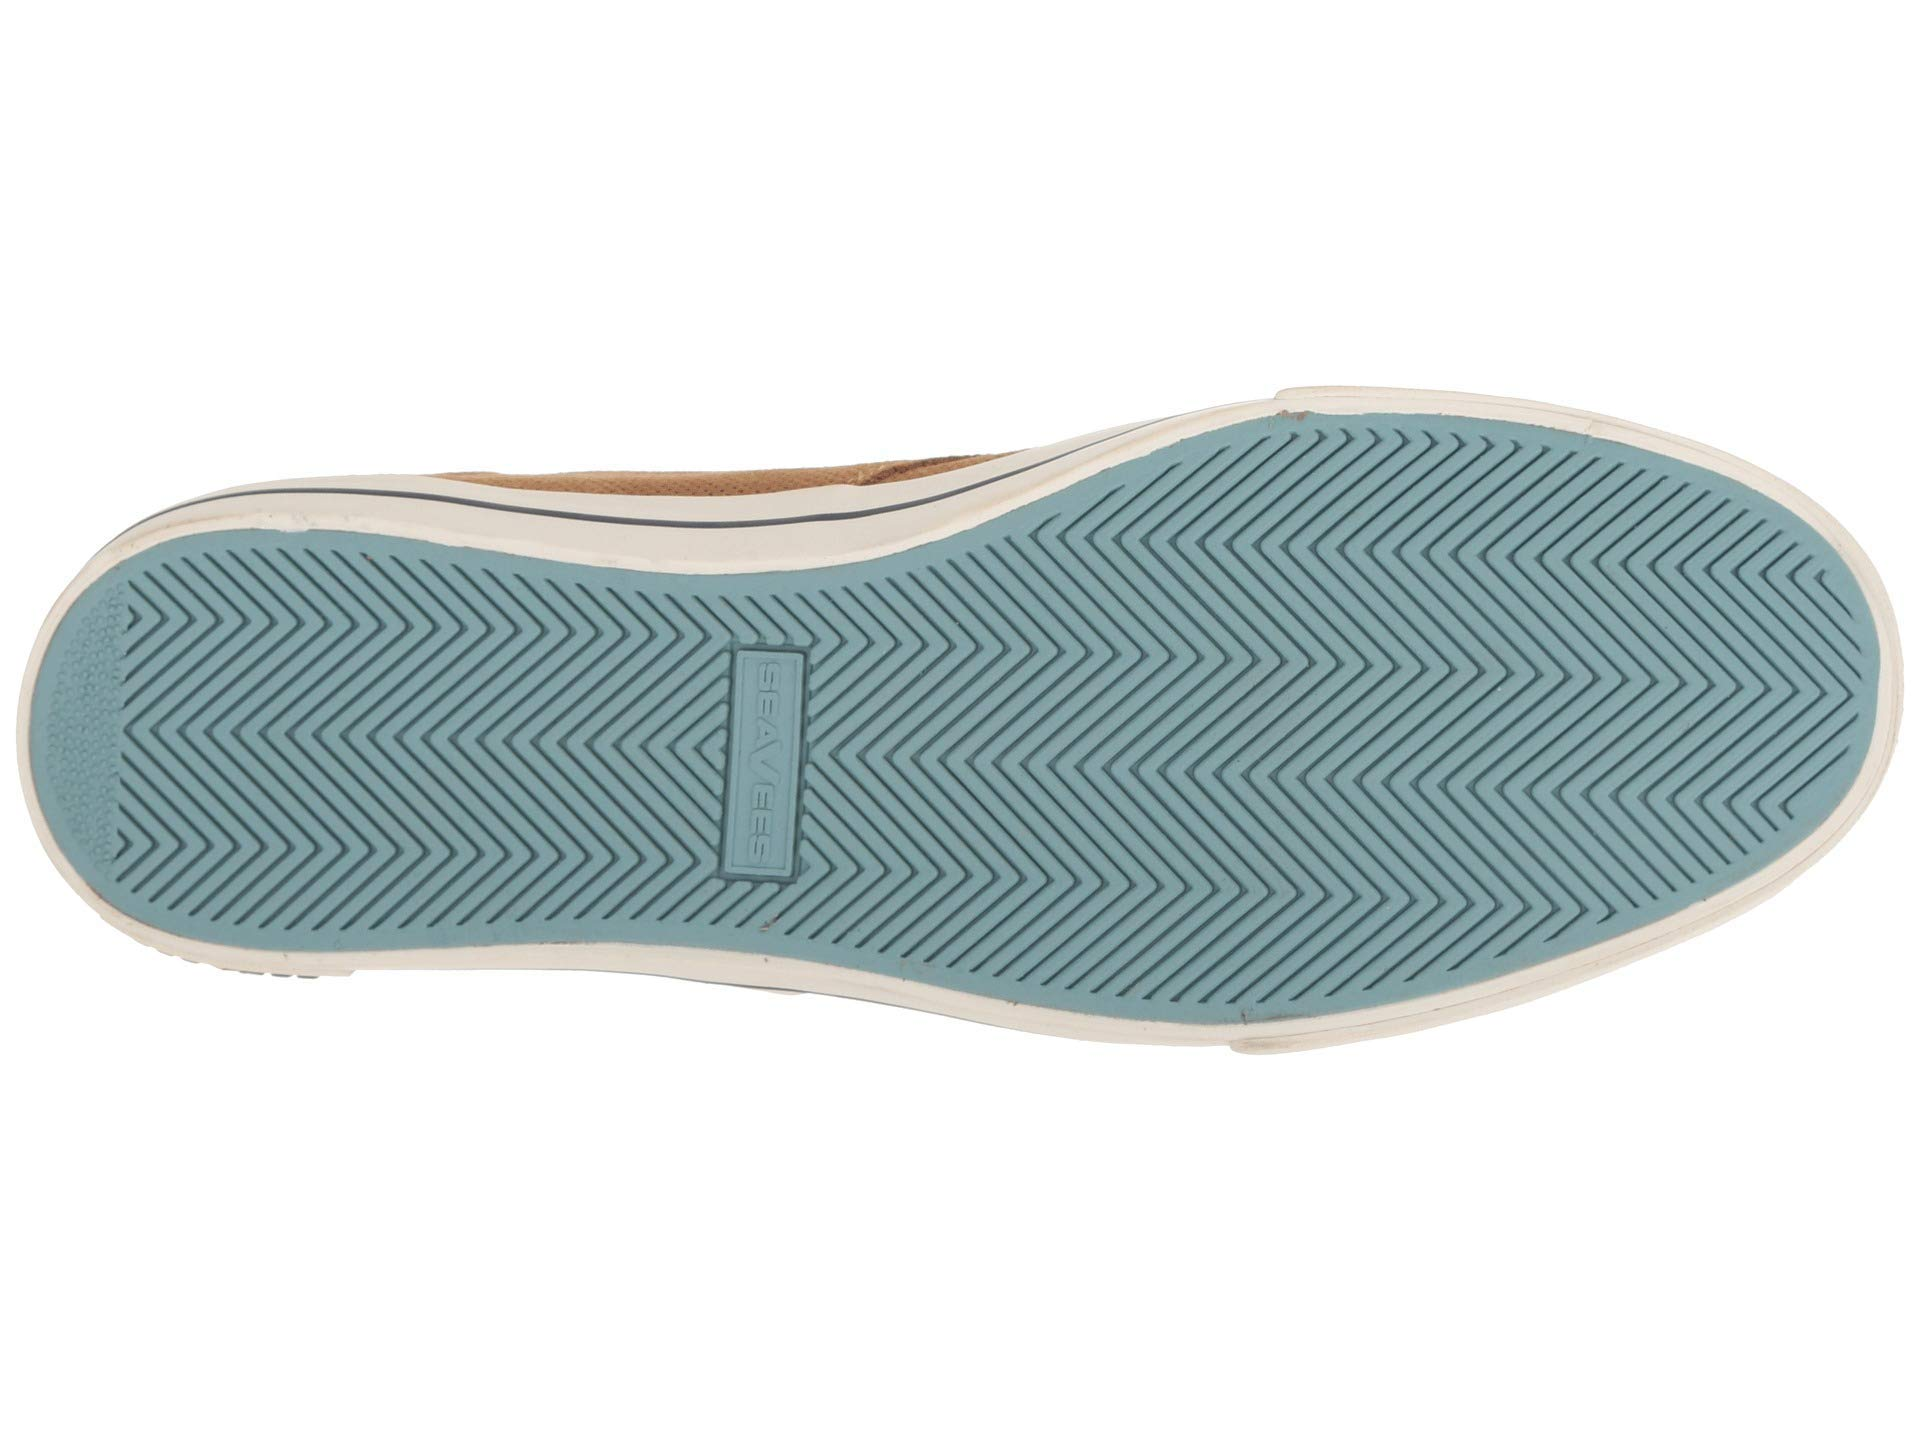chevron: (965, 538, 1788, 859), (91, 605, 271, 889), (711, 632, 810, 927)
circle: (91, 605, 271, 889)
line: (711, 632, 810, 927)
quad: (711, 632, 810, 927)
text: (711, 632, 810, 927)
triangle: (91, 605, 271, 889)
